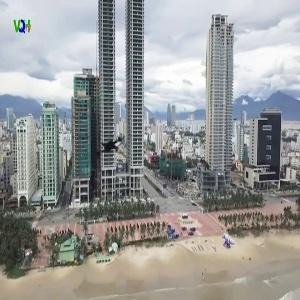drone: (86, 126, 137, 177)
